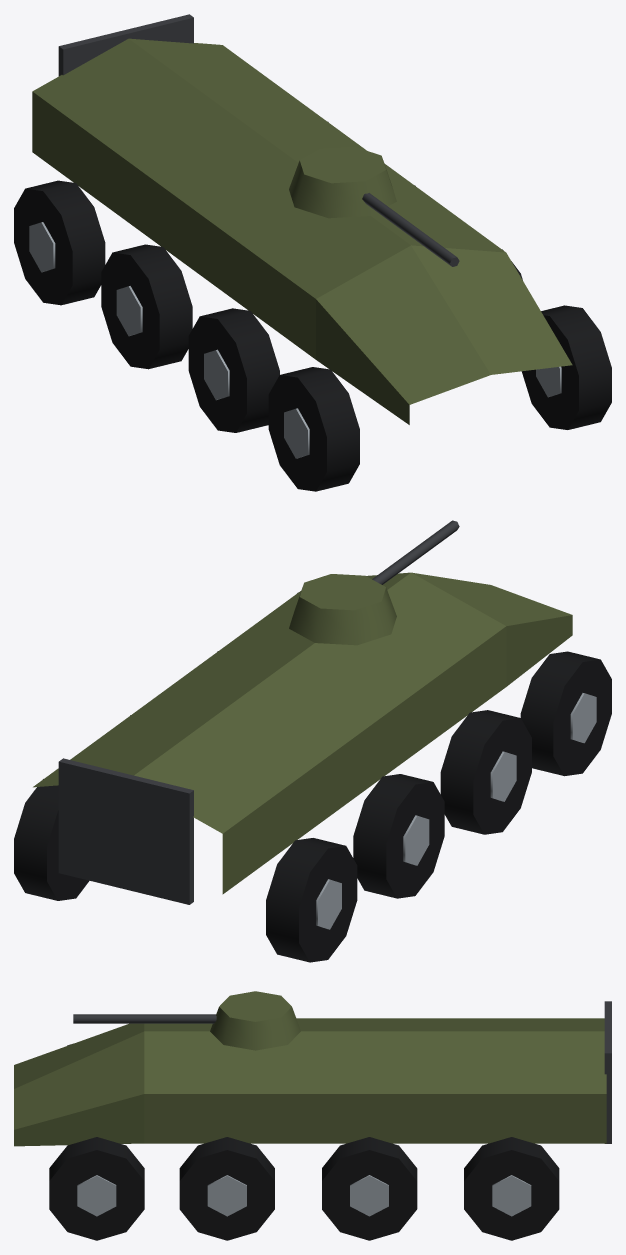
The model's file is veh_ground_apc_a08.glb.
3 views of the same model, one above another, from view 1: azimuth 30°, elevation 25°; view 2: azimuth 150°, elevation 25°; view 3: azimuth 270°, elevation 25° (orthographic). The views are drawn at different scales.
Visible parts, largest first — view 1: body, wheel_6, wheel_2, wheel_0, wheel_4, wheel_7, gun, ramp; view 2: body, ramp, wheel_0, wheel_2, wheel_4, wheel_6, gun, wheel_1; view 3: body, wheel_3, wheel_7, wheel_1, wheel_5, gun, ramp.
Part boxes in pixels (x1,y1,x2,y2): body: (32,38,572,424); wheel_6: (268,367,359,491); wheel_2: (101,244,192,369); wheel_0: (14,180,105,305); wheel_4: (188,308,279,432); wheel_7: (521,305,611,429); gun: (289,146,459,266); ramp: (58,14,193,76); body: (33,572,572,894); ramp: (58,758,193,904); wheel_0: (266,838,357,962); wheel_2: (353,774,444,898); wheel_4: (440,710,531,834); wheel_6: (520,651,611,776); gun: (289,520,459,645); wheel_1: (14,779,89,900); body: (14,1018,606,1146); wheel_3: (322,1137,417,1240); wheel_7: (49,1137,144,1240); wheel_1: (464,1137,559,1240); wheel_5: (179,1137,274,1240); gun: (73,991,300,1050); ramp: (604,1001,611,1143).
Size of what is drawn, in the model's own units: 2.98 by 2.15 by 6.56.
